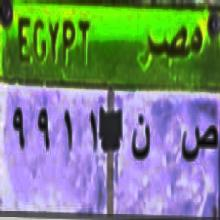1: (62, 109, 74, 159), (88, 109, 98, 154)
9: (38, 100, 51, 156), (12, 107, 26, 154)
noon: (131, 111, 150, 165)
saad: (179, 120, 219, 168)
